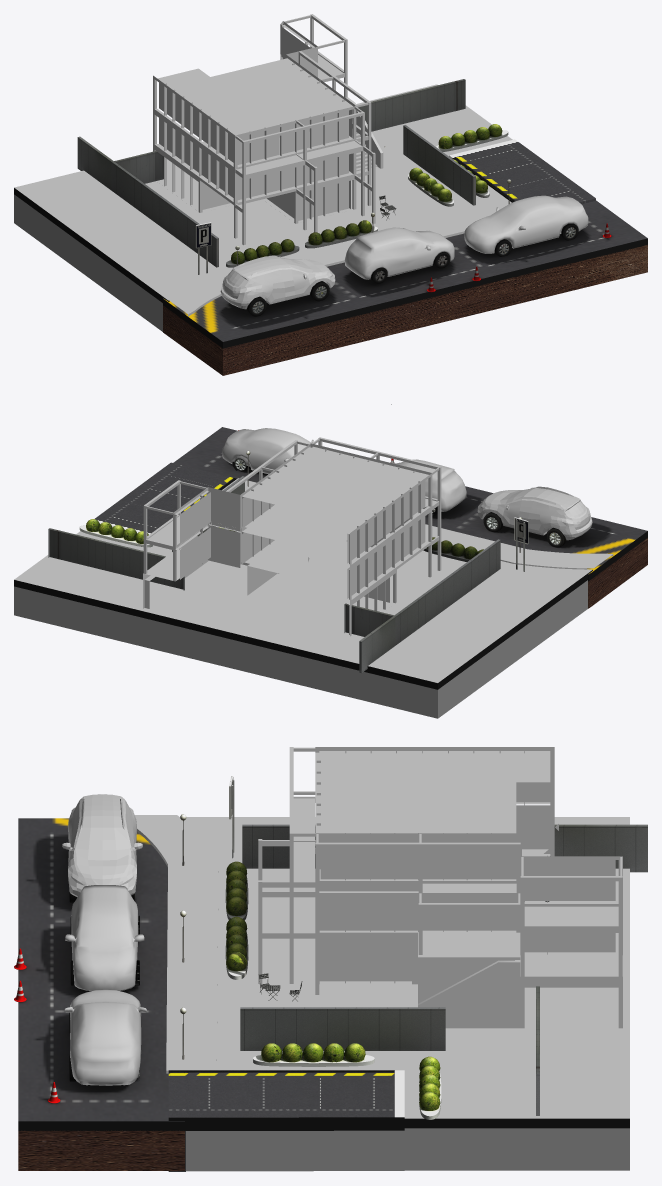
The picture shows the model from 3 angles, top to bottom: view 1: azimuth 30°, elevation 25°; view 2: azimuth 150°, elevation 25°; view 3: azimuth 270°, elevation 25°; orthographic projection. The views are drawn at different scales.
Visible parts, largest first — view 1: dimian_B, fanzi_4_qiangbi, daolu_005, 对象058, fanzi_4_boli, weiqiang_1, daolu_1, tianlai, 对象059, loulan_1, qida_hese, lushi_2 (+4 smaller); view 2: dimian_B, fanzi_4_qiangbi, 对象059, weiqiang_1, fanzi_4_boli, daolu_005, daolu_1, loulan_1, lushi_2, tianlai, 对象058, qida_hese (+3 smaller); view 3: fanzi_4_qiangbi, dimian_B, daolu_005, fanzi_4_boli, weiqiang_1, daolu_1, lushi_2, 对象059, 对象060, 对象058, qida_hese, tianlai (+6 smaller).
Part boxes in pixels (x1=…): dimian_B: x1=14, y1=84, x2=512, y2=302; fanzi_4_qiangbi: x1=153, y1=14, x2=383, y2=245; daolu_005: x1=163, y1=200, x2=647, y2=348; 对象058: x1=163, y1=245, x2=647, y2=375; fanzi_4_boli: x1=159, y1=27, x2=352, y2=220; weiqiang_1: x1=77, y1=79, x2=475, y2=267; daolu_1: x1=449, y1=139, x2=595, y2=204; tianlai: x1=464, y1=195, x2=588, y2=253; 对象059: x1=14, y1=194, x2=162, y2=331; loulan_1: x1=220, y1=255, x2=335, y2=309; qida_hese: x1=344, y1=227, x2=454, y2=279; lushi_2: x1=169, y1=204, x2=508, y2=316; dimian_B: x1=14, y1=526, x2=592, y2=689; fanzi_4_qiangbi: x1=143, y1=437, x2=441, y2=636; 对象059: x1=14, y1=580, x2=587, y2=718; weiqiang_1: x1=48, y1=476, x2=500, y2=673; fanzi_4_boli: x1=180, y1=449, x2=425, y2=610; daolu_005: x1=173, y1=427, x2=647, y2=581; daolu_1: x1=95, y1=462, x2=236, y2=534; loulan_1: x1=477, y1=486, x2=592, y2=540; lushi_2: x1=222, y1=478, x2=613, y2=569; tianlai: x1=222, y1=428, x2=313, y2=474; 对象058: x1=588, y1=538, x2=647, y2=608; qida_hese: x1=392, y1=459, x2=466, y2=511; fanzi_4_qiangbi: x1=258, y1=747, x2=622, y2=1028; dimian_B: x1=184, y1=817, x2=629, y2=1128; daolu_005: x1=18, y1=818, x2=184, y2=1130; fanzi_4_boli: x1=316, y1=749, x2=615, y2=983; weiqiang_1: x1=240, y1=824, x2=647, y2=1115; daolu_1: x1=168, y1=1070, x2=404, y2=1171; lushi_2: x1=134, y1=815, x2=218, y2=1073; 对象059: x1=404, y1=1128, x2=629, y2=1170; 对象060: x1=186, y1=1130, x2=404, y2=1171; 对象058: x1=18, y1=1130, x2=184, y2=1170; qida_hese: x1=65, y1=885, x2=144, y2=990; tianlai: x1=64, y1=989, x2=146, y2=1085.
Size of the model in its own units: 94.63 by 30.71 by 83.46.
